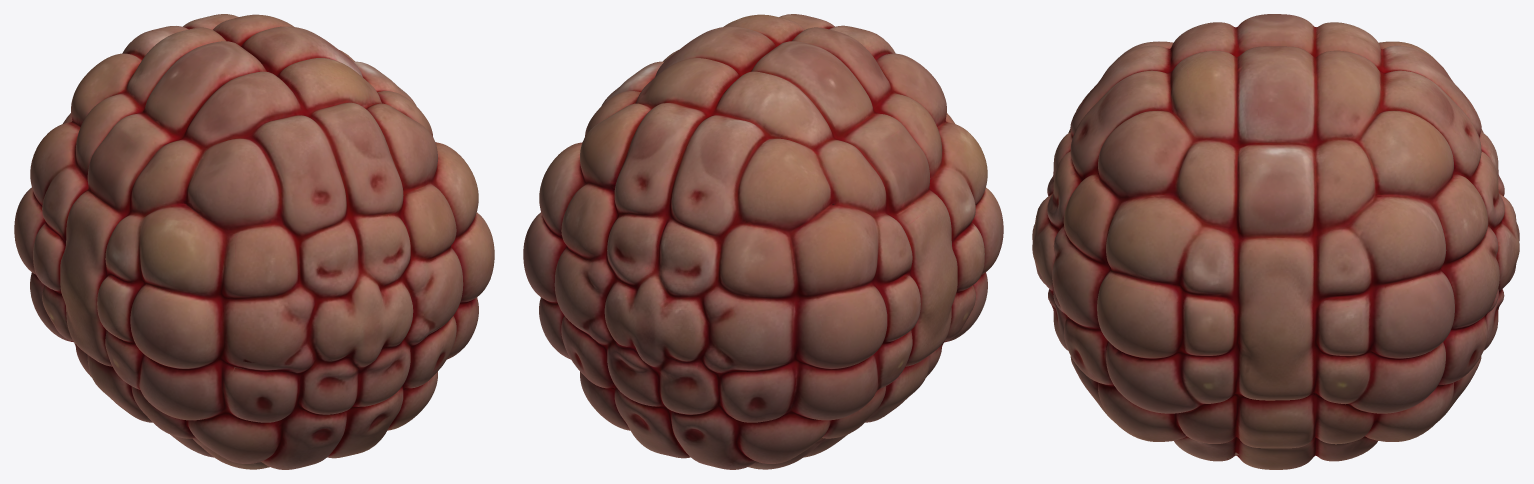
Rendered from polycystic-kidney.glb.
3 renders of one model, left to right at view 1: azimuth 30°, elevation 25°; view 2: azimuth 150°, elevation 25°; view 3: azimuth 270°, elevation 25°, orthographic. The views are drawn at different scales.
Visible parts, largest first — view 1: model; view 2: model; view 3: model.
Boxes of the visible parts, left/top/right/bottom form: model: left=14, top=14, right=494, bottom=469; model: left=523, top=14, right=1003, bottom=469; model: left=1032, top=14, right=1519, bottom=469.
Size of the model in its own units: 1.7 by 1.76 by 1.9.
Materials: 1 (1 with a texture image).
